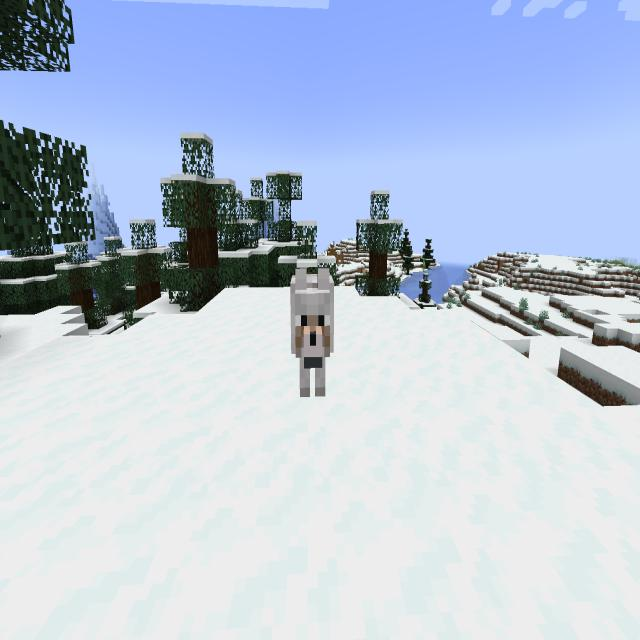Wolf: (282, 256, 341, 412)
